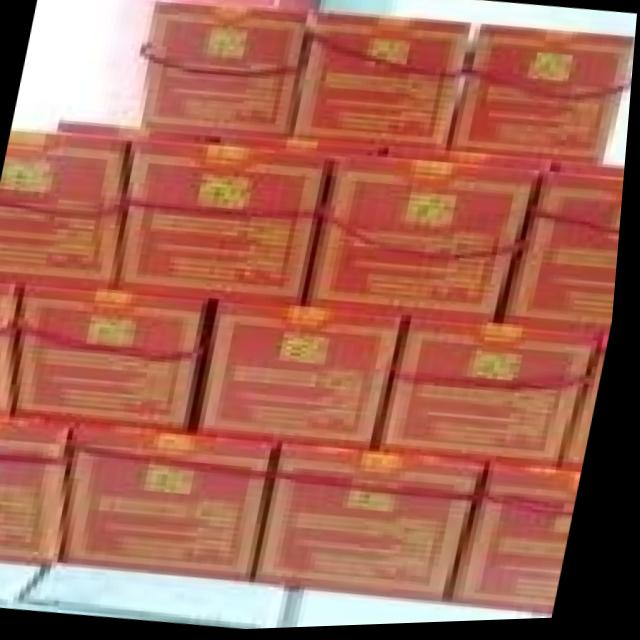box: (310, 158, 542, 330), (264, 448, 493, 605), (122, 142, 333, 311), (71, 423, 284, 584), (387, 324, 610, 469), (204, 306, 406, 454), (17, 285, 213, 431), (453, 27, 636, 165), (300, 14, 471, 151), (142, 2, 308, 139), (0, 133, 134, 291), (456, 465, 590, 619), (508, 175, 627, 340), (0, 416, 83, 568), (0, 282, 25, 416)
